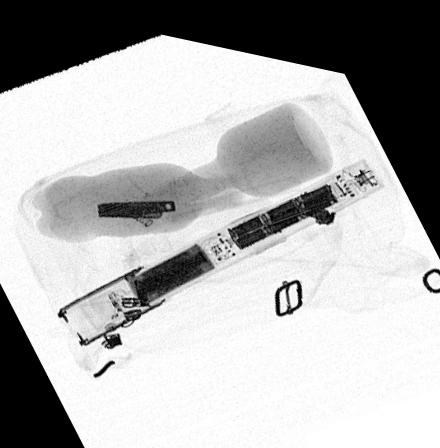Baton: (54, 138, 387, 344)
